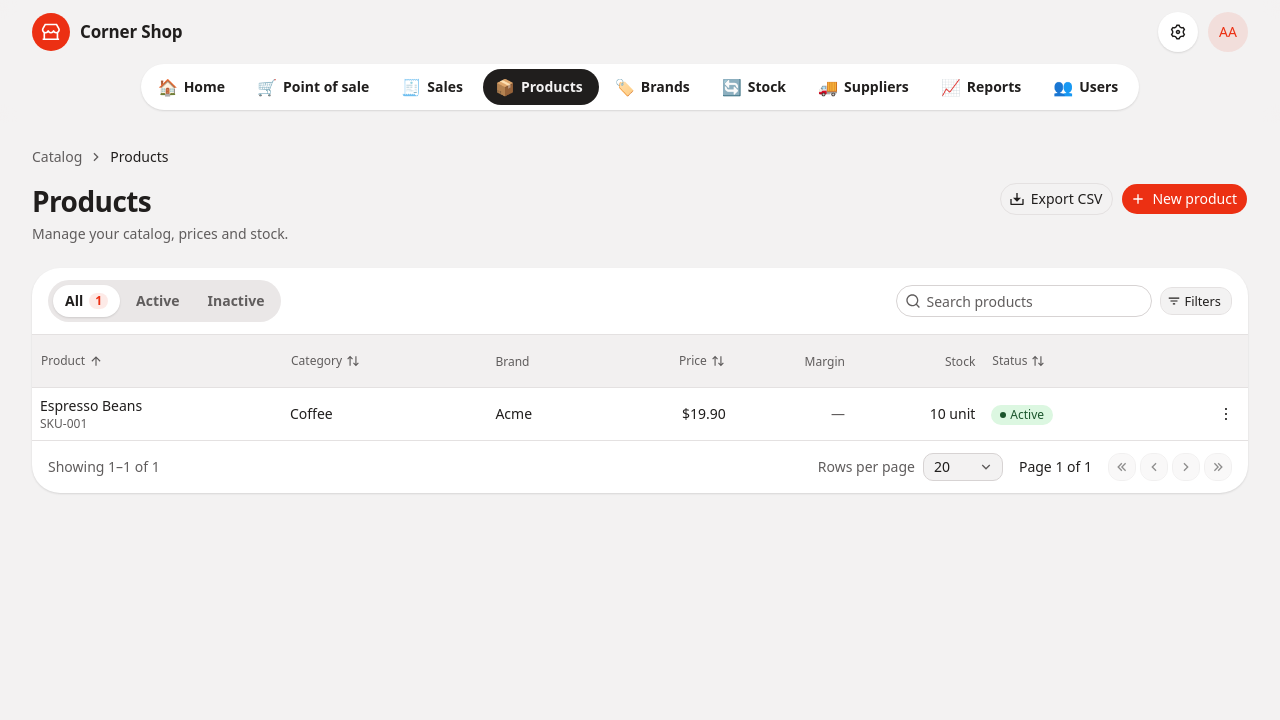
Test: StockMovementDialog › opens from the product list menu
Click the button named "Actions": (1226, 414) [1212,400,1240,428]
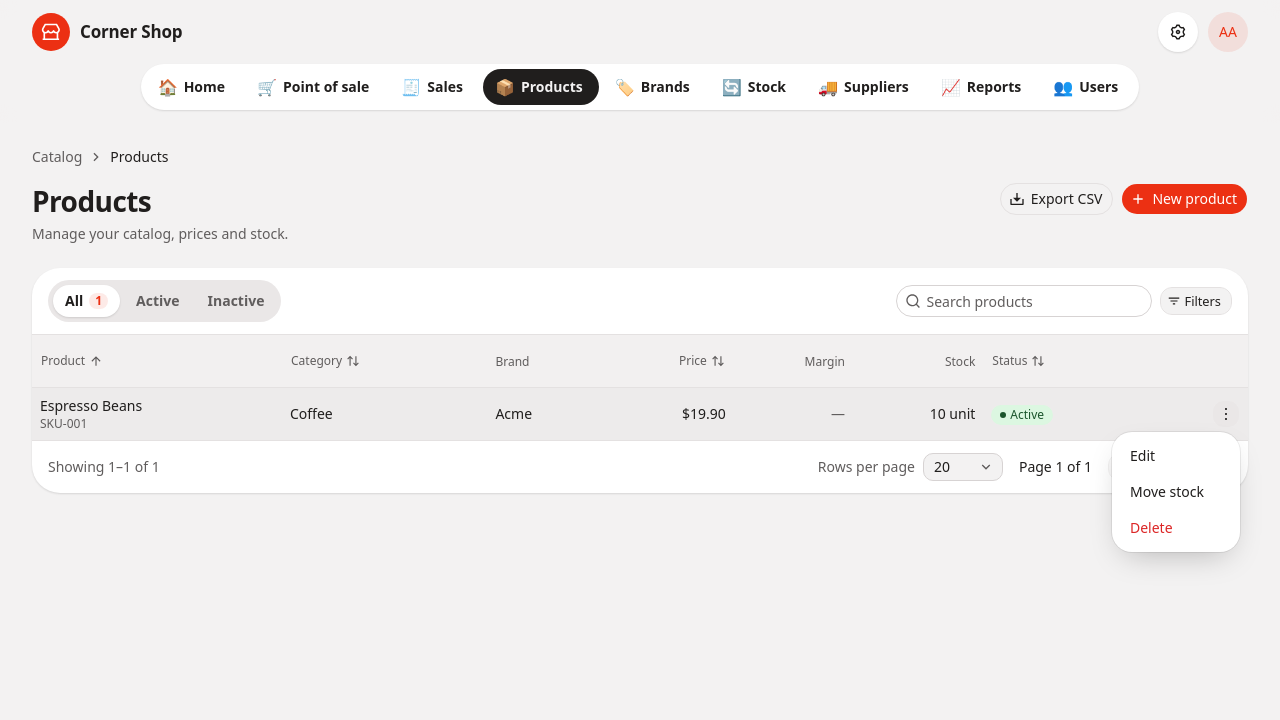
Click the menu item "Move stock": (1167, 492) [1130,482,1204,501]
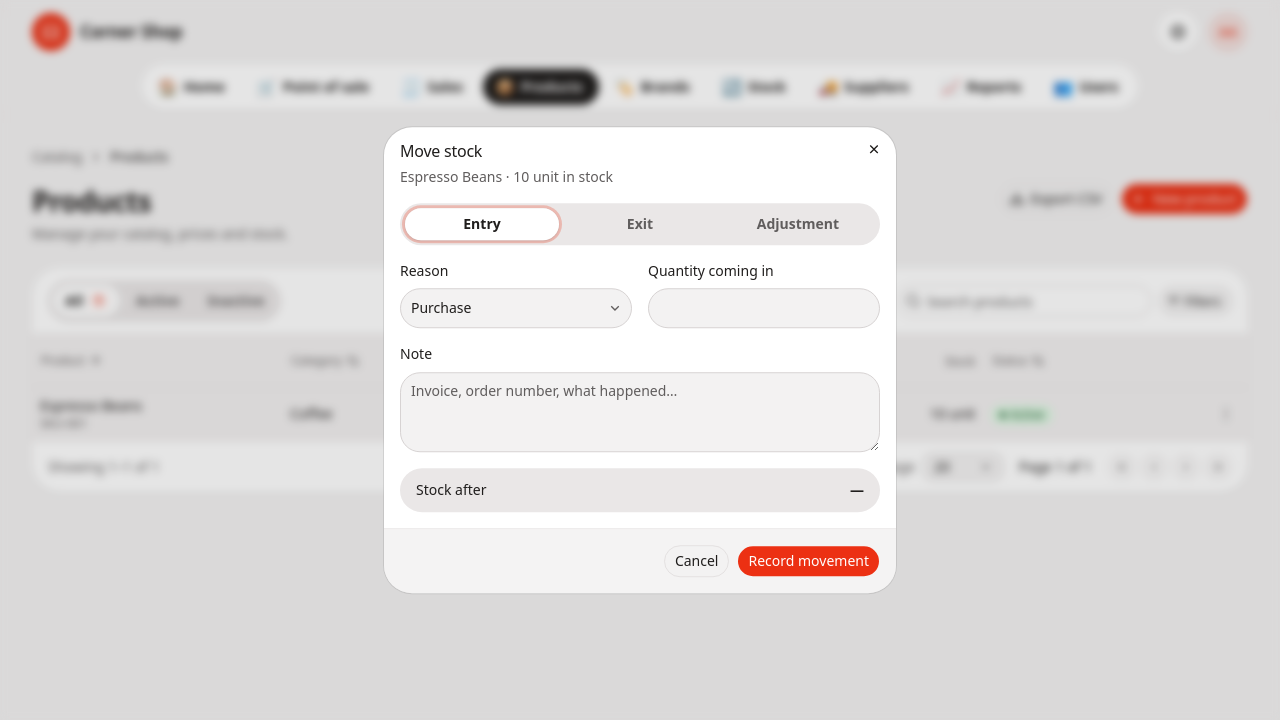
Expected: the dialog "Move stock" is shown, [384,127,896,593]
